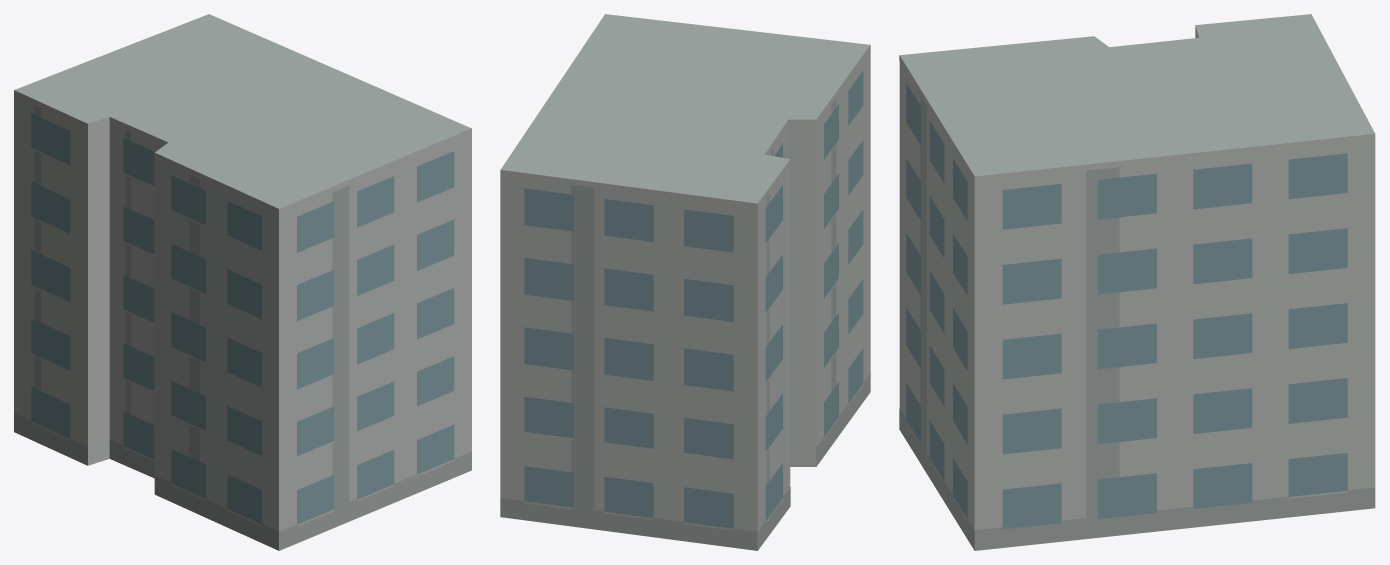
The model's file is survey-upis-32688995.glb.
3 renders of one model, left to right at view 1: azimuth 30°, elevation 25°; view 2: azimuth 150°, elevation 25°; view 3: azimuth 270°, elevation 25°, orthographic. The views are drawn at different scales.
Visible parts, largest first — view 1: survey-upis-32688995.tmp; view 2: survey-upis-32688995.tmp; view 3: survey-upis-32688995.tmp.
Boxes of the visible parts, x1,y1,x2,y2 form: survey-upis-32688995.tmp: (14,14,471,550); survey-upis-32688995.tmp: (500,14,870,550); survey-upis-32688995.tmp: (899,14,1375,550).
Bounding box in the file's own units: 13.55 × 14.55 × 16.77.
